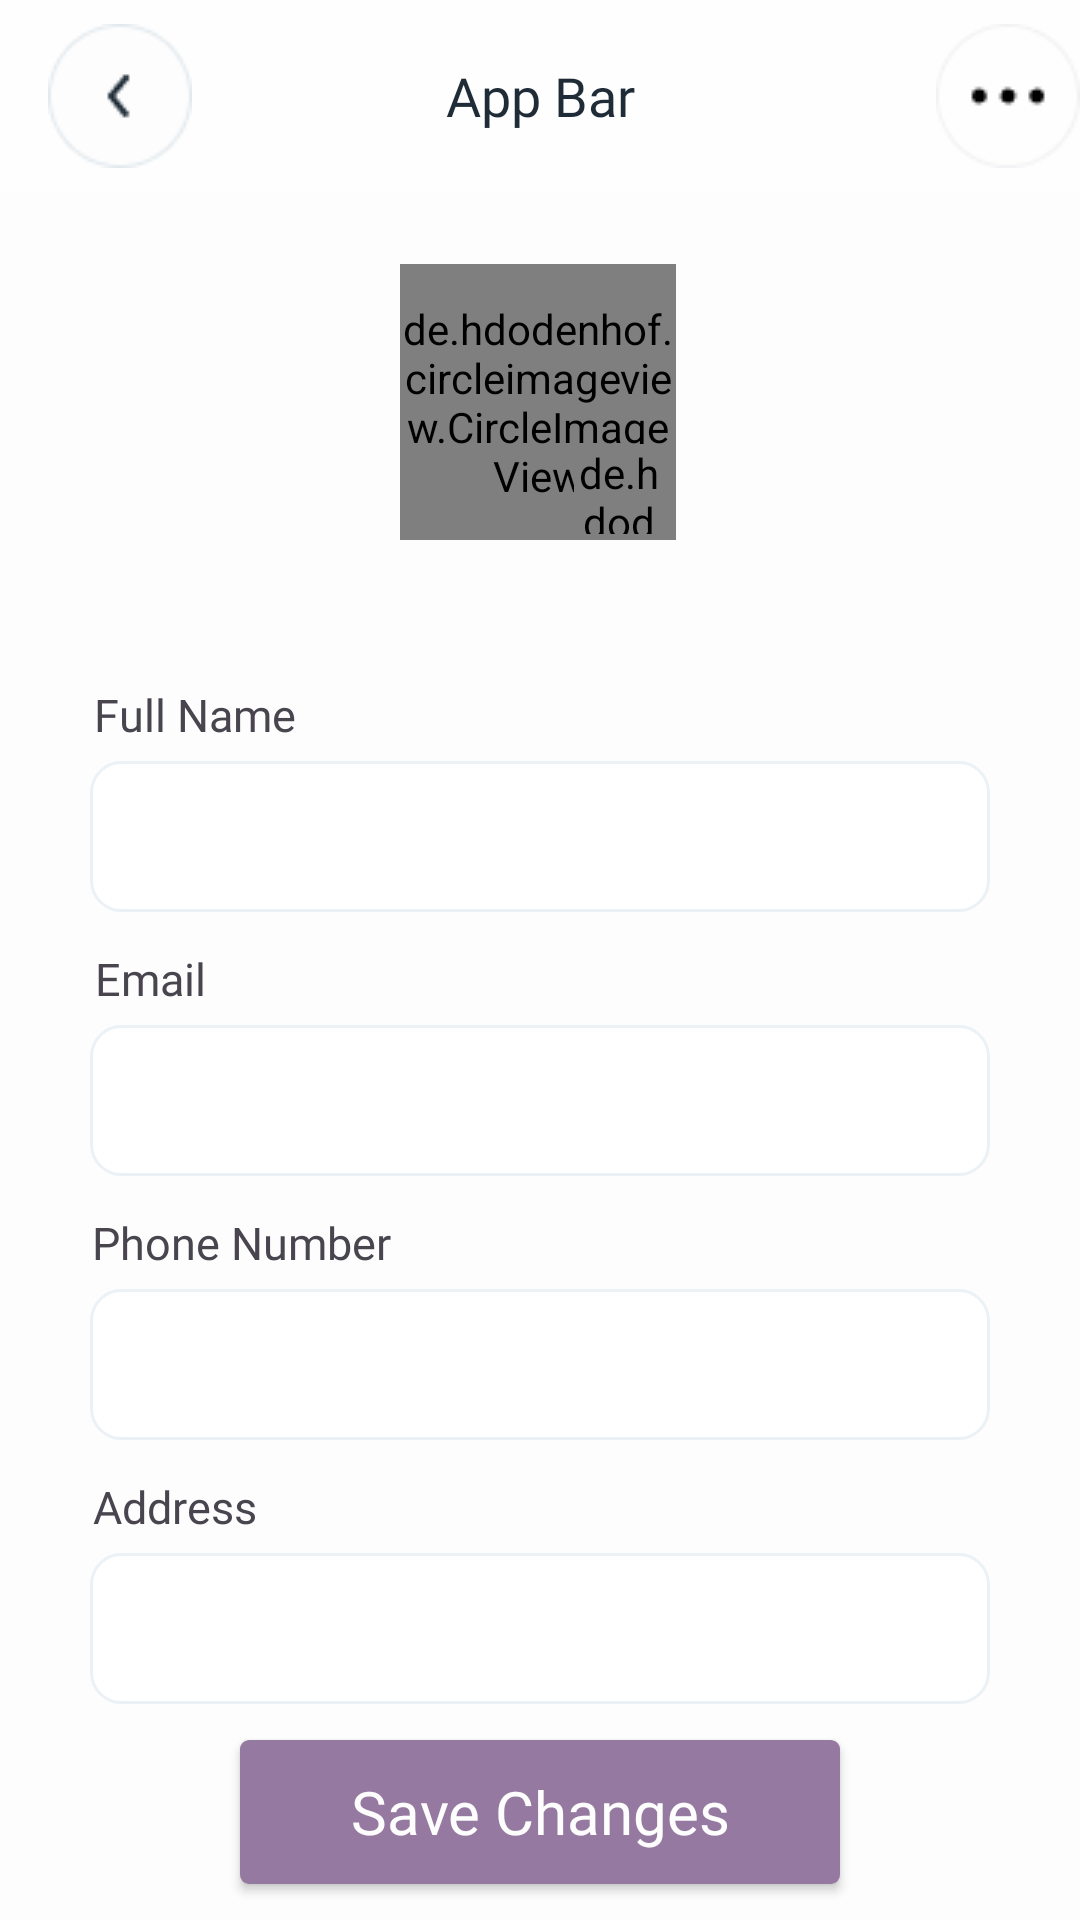

Screen size 1080 × 1920. Icon name, then its box in pixels as (x1, y1, x2, y2):
arrow back: (48, 24, 192, 168)
three dot: (971, 86, 1045, 106)
